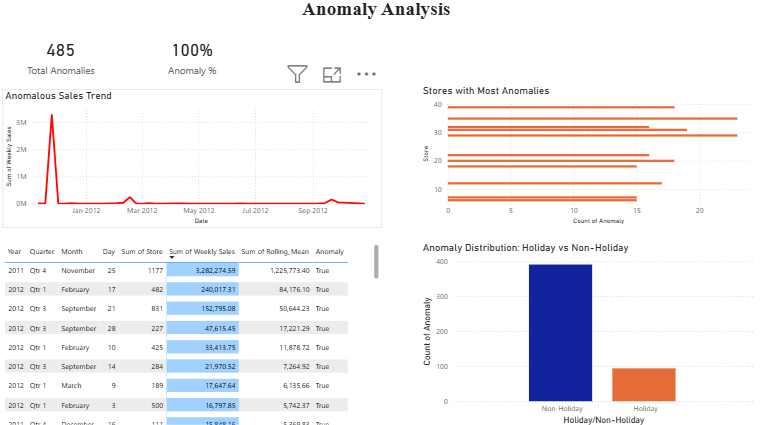

The dashboard page shown, as its layout file describes it:
{"tool":"powerbi","page":{"name":"Anomaly Insights","canvas":[1280,720],"ordinal":2},"visuals":[{"type":"tableEx","fields":{"Values":["walmart_final.Date.Variation.Date Hierarchy.Year","walmart_final.Date.Variation.Date Hierarchy.Quarter","walmart_final.Date.Variation.Date Hierarchy.Month","walmart_final.Date.Variation.Date Hierarchy.Day","Sum(walmart_final.Store)","Sum(walmart_final.Weekly_Sales)","Sum(walmart_final.Rolling_Mean)","walmart_final.Anomaly"]},"box":[8.3,410.6,632.5,309],"z":0},{"type":"card","fields":{"Values":["walmart_final.Total Anomalies"]},"box":[10.4,56,194.9,93.3],"z":1000,"group":"g1"},{"type":"card","fields":{"Values":["walmart_final.Anomaly %"]},"box":[226,56,199.1,93.3],"z":1000},{"type":"lineChart","title":"Anomalous Sales Trend","fields":{"Category":["walmart_final.Date"],"Y":["Sum(walmart_final.Weekly_Sales)"]},"box":[10.4,157.6,630.4,230.2],"z":2000},{"type":"barChart","title":"Stores with Most Anomalies","fields":{"Category":["walmart_final.Store"],"Y":["CountNonNull(walmart_final.Anomaly)"]},"box":[703,149.3,559.9,238.5],"z":3000},{"type":"columnChart","title":"Anomaly Distribution: Holiday vs Non-Holiday","fields":{"Category":["walmart_final.IsHoliday"],"Y":["CountNonNull(walmart_final.Anomaly)"]},"box":[703,410.6,559.9,309],"z":4000},{"type":"textbox","box":[470.8,0,317.3,56],"z":5000},{"type":"group","id":"g1","title":"Group 1","box":[10.4,56,194.9,93.3],"z":6000}]}

Visuals, with their boxes in screenshot pixels (x1, y1, x2, y2), scaled from the page's 1280x720 canvas onto the 767x425 screenshot:
tableEx - walmart_final.Date.Variation.Date Hierarchy.Year x walmart_final.Date.Variation.Date Hierarchy.Quarter: [left=5, top=242, right=384, bottom=424]
card - walmart_final.Total Anomalies: [left=6, top=33, right=123, bottom=88]
card - walmart_final.Anomaly %: [left=135, top=33, right=255, bottom=88]
"Anomalous Sales Trend" lineChart: [left=6, top=93, right=384, bottom=229]
"Stores with Most Anomalies" barChart: [left=421, top=88, right=757, bottom=229]
"Anomaly Distribution: Holiday vs Non-Holiday" columnChart: [left=421, top=242, right=757, bottom=424]
textbox: [left=282, top=0, right=472, bottom=33]
"Group 1" group: [left=6, top=33, right=123, bottom=88]
